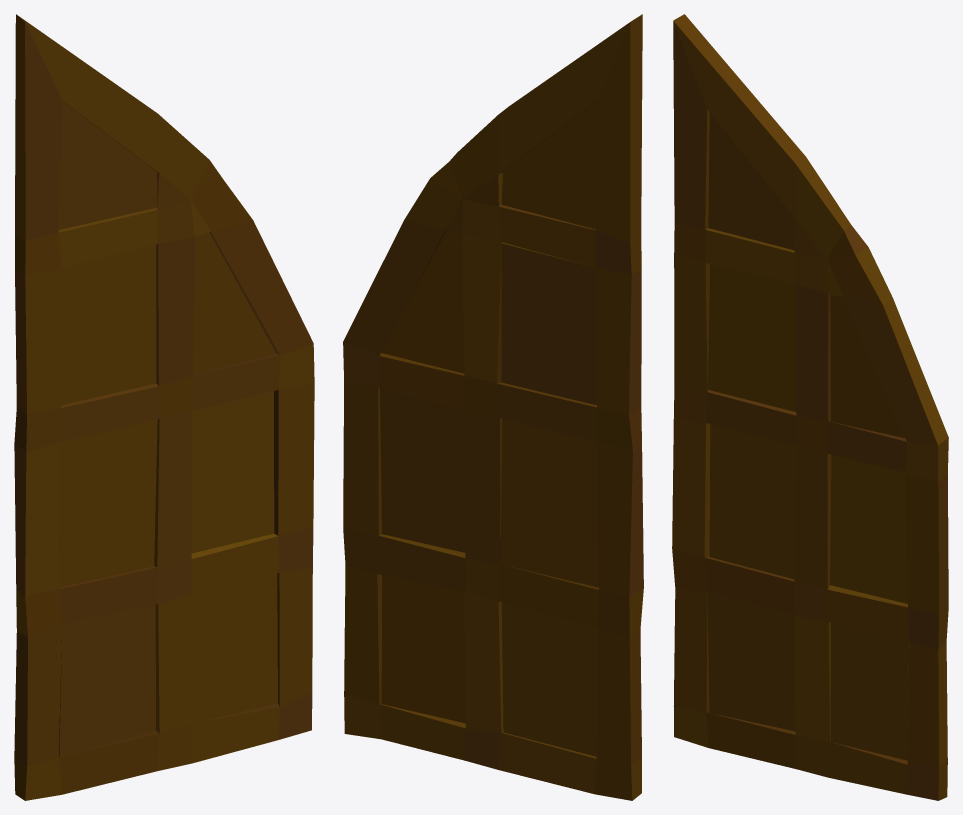
The model's file is BigWoodenDoor.glb.
3 renders of one model, left to right at view 1: azimuth 30°, elevation 25°; view 2: azimuth 150°, elevation 25°; view 3: azimuth 330°, elevation 25°, orthographic. The views are drawn at different scales.
Parts seen in each view (by area): view 1: BigWoodenDoor; view 2: BigWoodenDoor; view 3: BigWoodenDoor.
Part boxes in pixels (left/top/right/bottom): BigWoodenDoor: left=14, top=14, right=314, bottom=800; BigWoodenDoor: left=343, top=14, right=643, bottom=800; BigWoodenDoor: left=672, top=14, right=948, bottom=800.
Bounding box in the file's own units: 1.58 × 4.09 × 0.1188.
